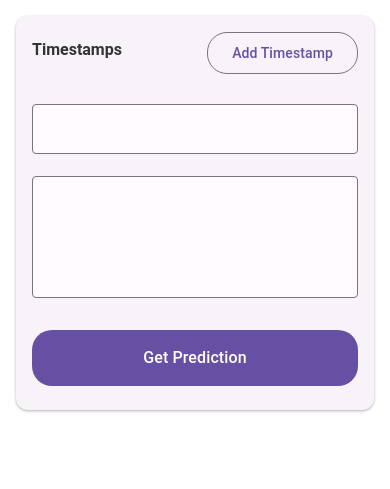
Test: PredictionForm › validates JSON format for context features
Type "invalid json" into the text box with placeholder "{\"temperature\": 22.5, \"humidity\": 65}" at coordinates (195, 238), box [32,178,358,298]
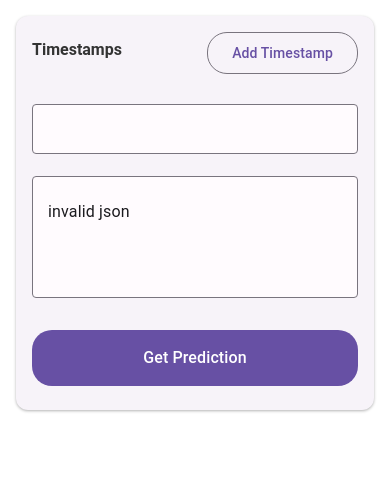
Click the button "Get Prediction" at coordinates (195, 358), box [32,338,358,378]
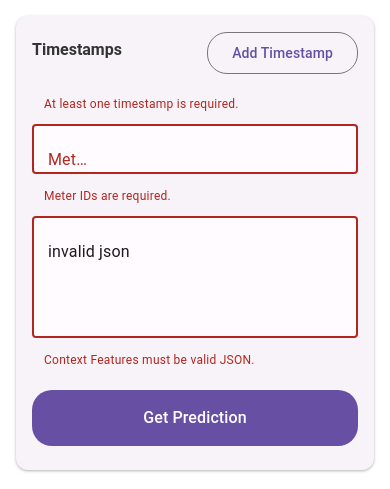
Expected: the text "Context Features must be valid JSON." is shown, [44,353,255,367]
